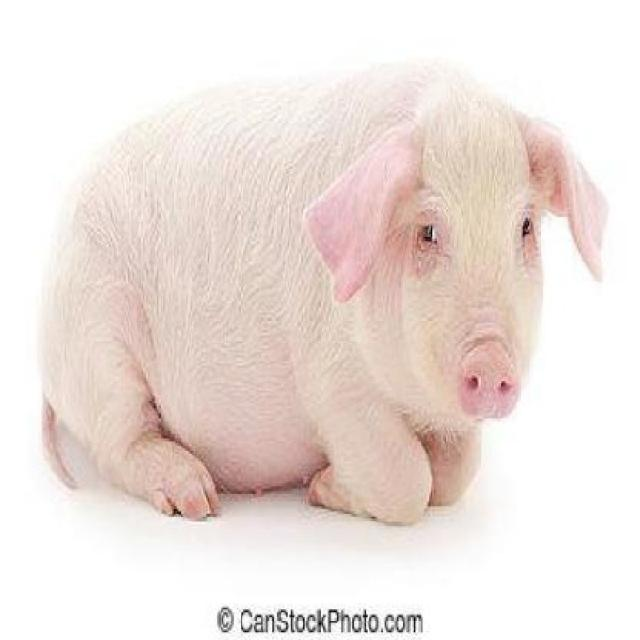pig: (44, 65, 605, 523)
